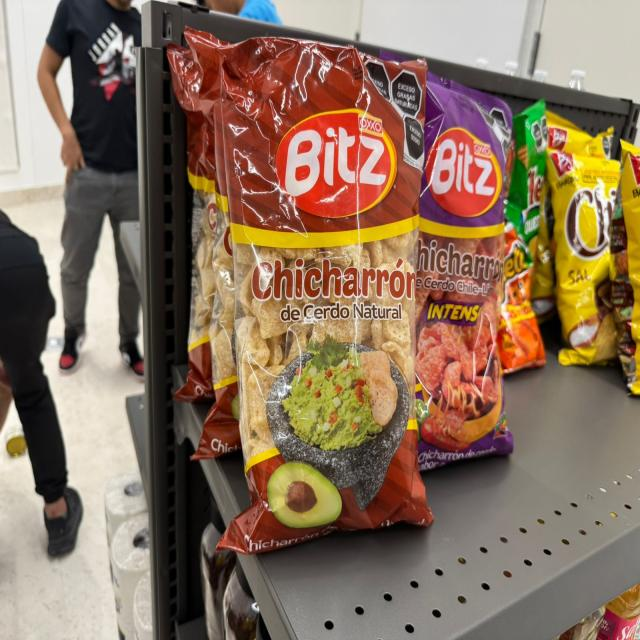CHEETOS TORCIDITOS 240GR: (501, 221, 552, 377)
Chicharron de Cerdo Natural Bitz 120 gr: (190, 18, 438, 552), (165, 44, 233, 456)
Papas Chips Barcel 170 gr bolsa con sal: (550, 102, 616, 370), (612, 137, 640, 398)
RUFFLES QUESO 185GR: (522, 93, 552, 302)
chicharrones de cerdo intenso: (414, 74, 529, 464)
